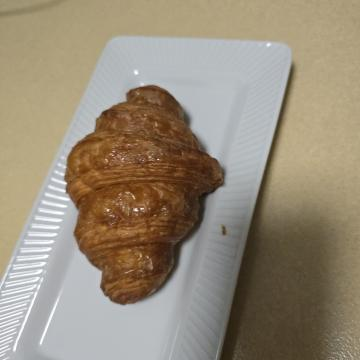croissant: (76, 124, 316, 308)
